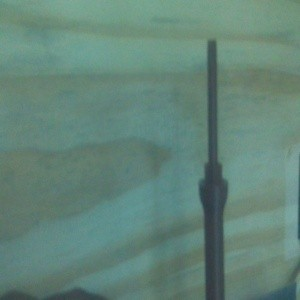obeng: (197, 38, 229, 300)
